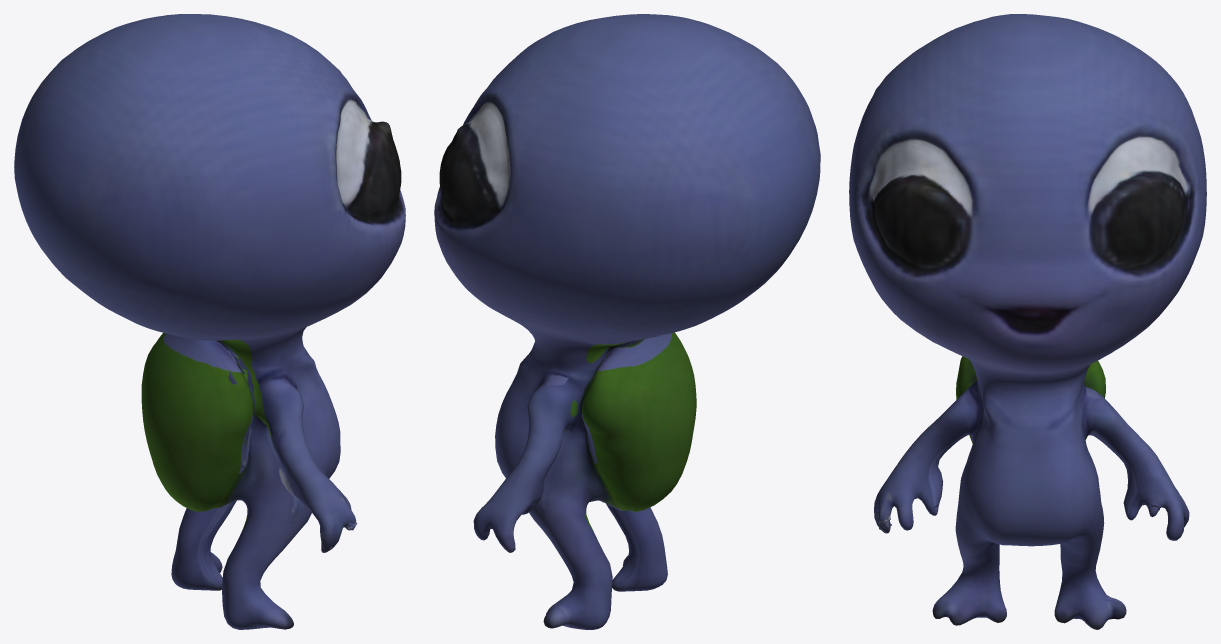
The model's file is alien.fbx.
3 renders of one model, left to right at view 1: azimuth 30°, elevation 25°; view 2: azimuth 150°, elevation 25°; view 3: azimuth 270°, elevation 25°, orthographic. The views are drawn at different scales.
Parts seen in each view (by area): view 1: mesh; view 2: mesh; view 3: mesh.
Part boxes in pixels (left/top/right/bottom): mesh: left=14, top=14, right=405, bottom=629; mesh: left=434, top=14, right=820, bottom=629; mesh: left=849, top=14, right=1206, bottom=629.
Size of the model in its own units: 472 by 784 by 447.
1 material, 1 textured.
